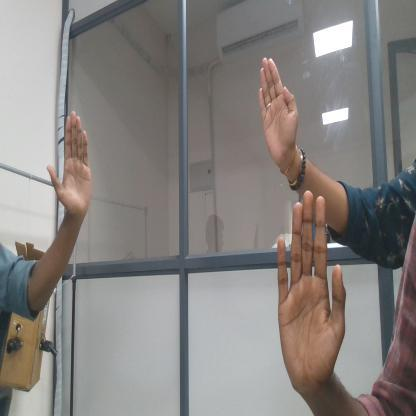Stop: (269, 187, 360, 396), (40, 103, 108, 223), (254, 42, 308, 174), (274, 201, 274, 202)
